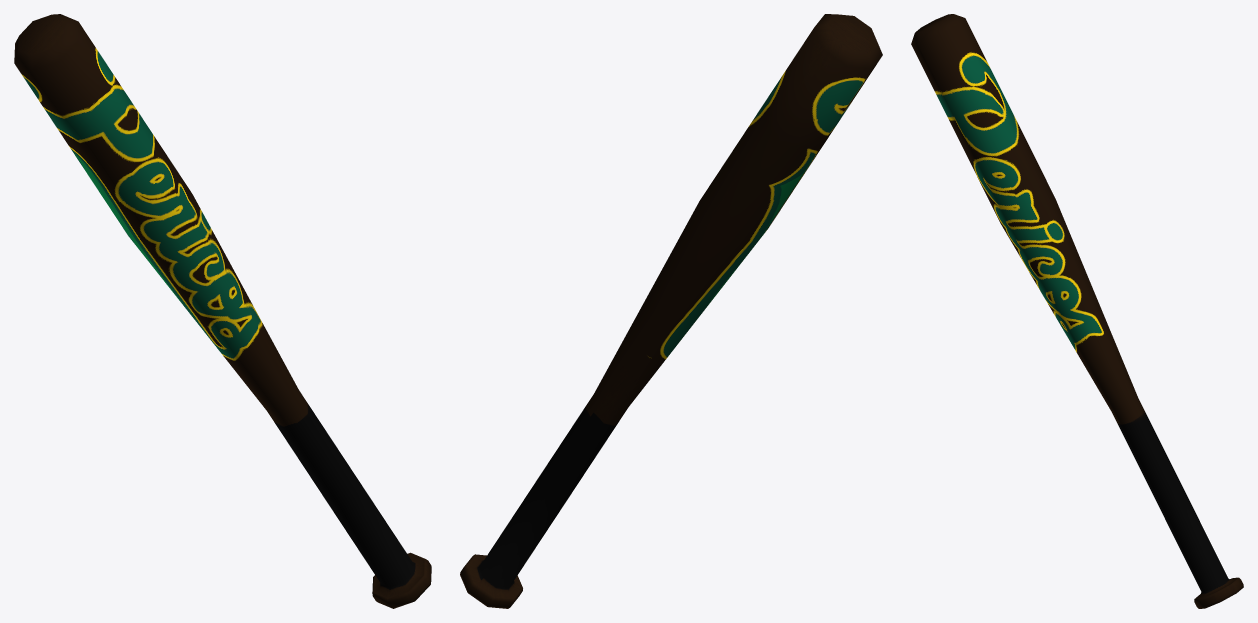
File: Bat_Pericos.glb
3 renders of one model, left to right at view 1: azimuth 30°, elevation 25°; view 2: azimuth 150°, elevation 25°; view 3: azimuth 330°, elevation 25°, orthographic. The views are drawn at different scales.
Visible parts, largest first — view 1: Bat_Estilizado; view 2: Bat_Estilizado; view 3: Bat_Estilizado.
Boxes of the visible parts, x1,y1,x2,y2 form: Bat_Estilizado: (14,14,431,608); Bat_Estilizado: (460,14,882,608); Bat_Estilizado: (911,14,1243,608).
Size of the model in its own units: 0.7436 by 1.16 by 0.1174.
Materials: 1 (1 with a texture image).
